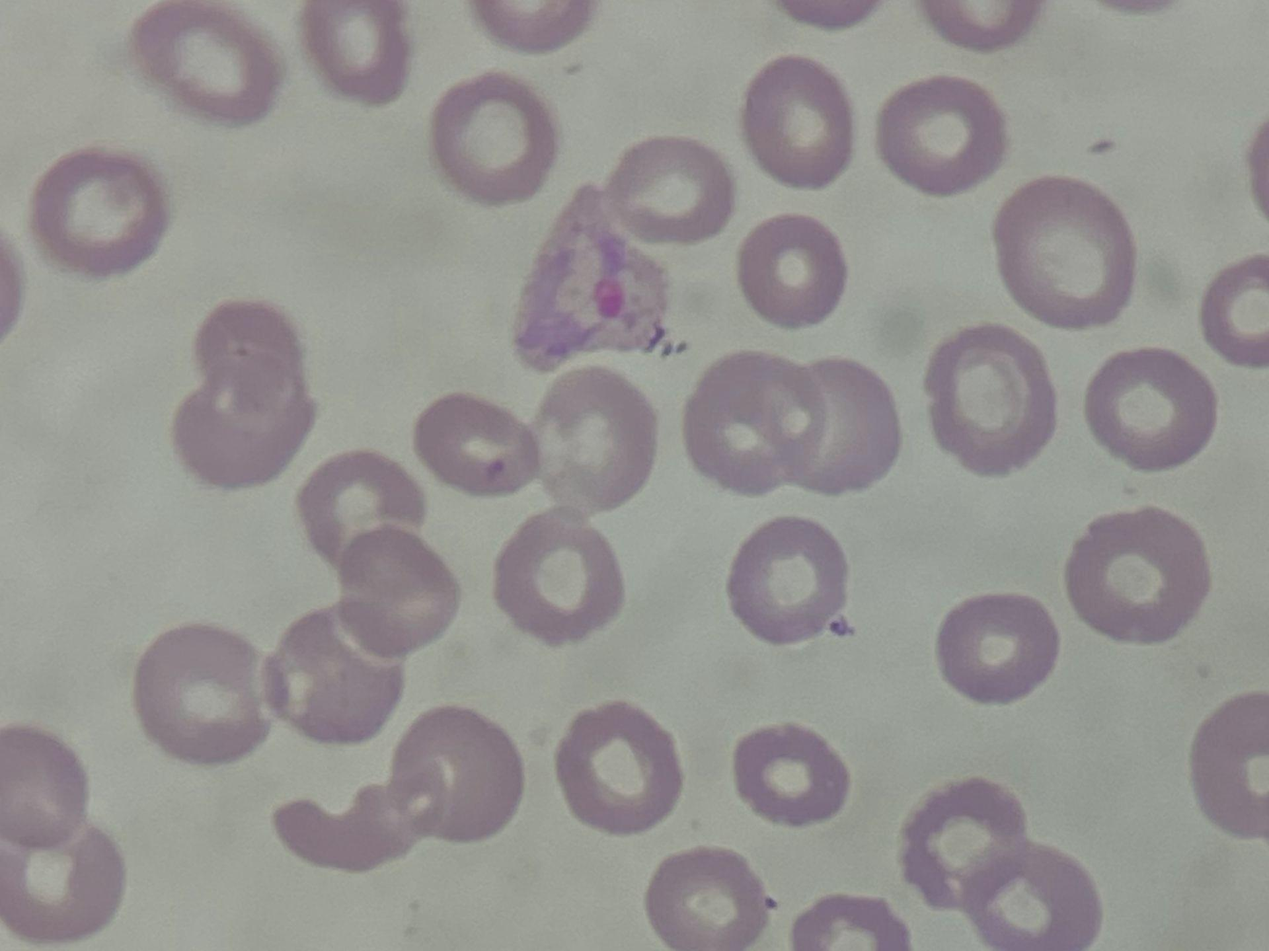Infected: (512, 185, 670, 372)
Uninfected: (996, 180, 1131, 333), (686, 354, 827, 498), (137, 622, 277, 767), (1067, 508, 1207, 645), (929, 326, 1055, 476), (388, 704, 522, 842), (491, 511, 629, 644), (31, 149, 167, 282), (329, 527, 466, 658), (137, 0, 280, 124), (535, 370, 658, 514), (428, 71, 556, 201), (269, 613, 400, 740), (785, 356, 901, 497), (899, 779, 1025, 908), (557, 703, 680, 834), (1082, 351, 1217, 469), (0, 812, 126, 935), (960, 845, 1104, 951), (880, 77, 1008, 192), (742, 58, 855, 188), (732, 516, 847, 641), (192, 296, 307, 420), (939, 590, 1057, 706), (175, 387, 310, 488), (610, 136, 733, 245), (302, 451, 428, 557), (646, 845, 767, 951), (415, 397, 545, 491), (1190, 691, 1269, 840), (735, 722, 849, 825), (739, 213, 843, 325), (306, 0, 405, 111)
